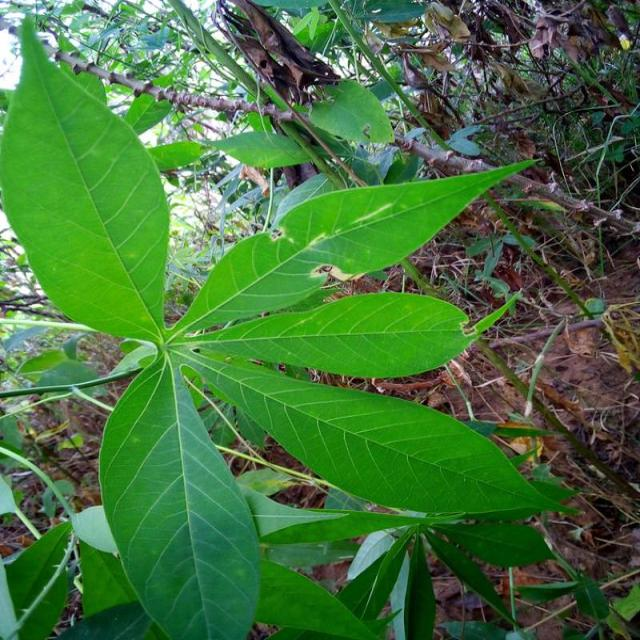cassava leaf: (0, 13, 572, 638), (173, 348, 578, 522), (170, 156, 538, 336), (0, 14, 171, 345), (97, 348, 261, 638)
